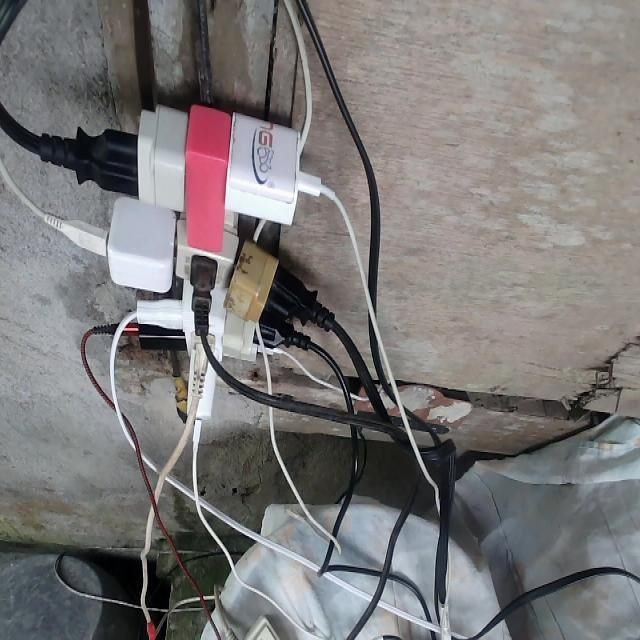-: (69, 98, 318, 422)
